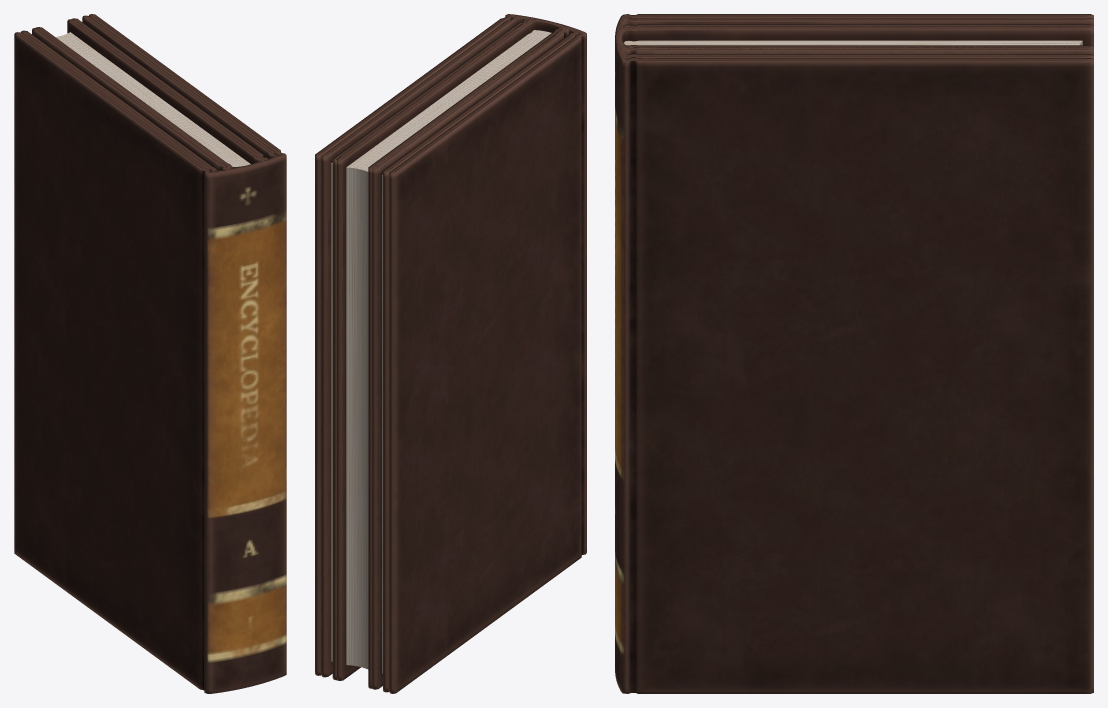
File: volumes.glb
3 renders of one model, left to right at view 1: azimuth 30°, elevation 25°; view 2: azimuth 150°, elevation 25°; view 3: azimuth 270°, elevation 25°, orthographic. The views are drawn at different scales.
Visible parts, largest first — view 1: volume_0, volume_5, volume_13, volume_17, volume_9; view 2: volume_0, volume_5, volume_13, volume_17, volume_9; view 3: volume_0, volume_5, volume_13, volume_17, volume_9.
Boxes of the visible parts, x1,y1,x2,y2 form: volume_0: (14,14,286,693); volume_5: (35,19,264,169); volume_13: (21,15,279,171); volume_17: (32,18,266,169); volume_9: (34,18,267,169); volume_0: (315,14,586,693); volume_5: (336,19,565,688); volume_13: (321,16,578,692); volume_17: (332,19,568,689); volume_9: (333,18,568,689); volume_0: (615,14,1093,693); volume_5: (615,26,1093,49); volume_13: (615,18,1093,59); volume_17: (615,24,1093,55); volume_9: (615,24,1093,51).
Bounding box in the file's own units: 0.0387 × 0.2374 × 0.1631.
Materials: 2 (2 with a texture image).
